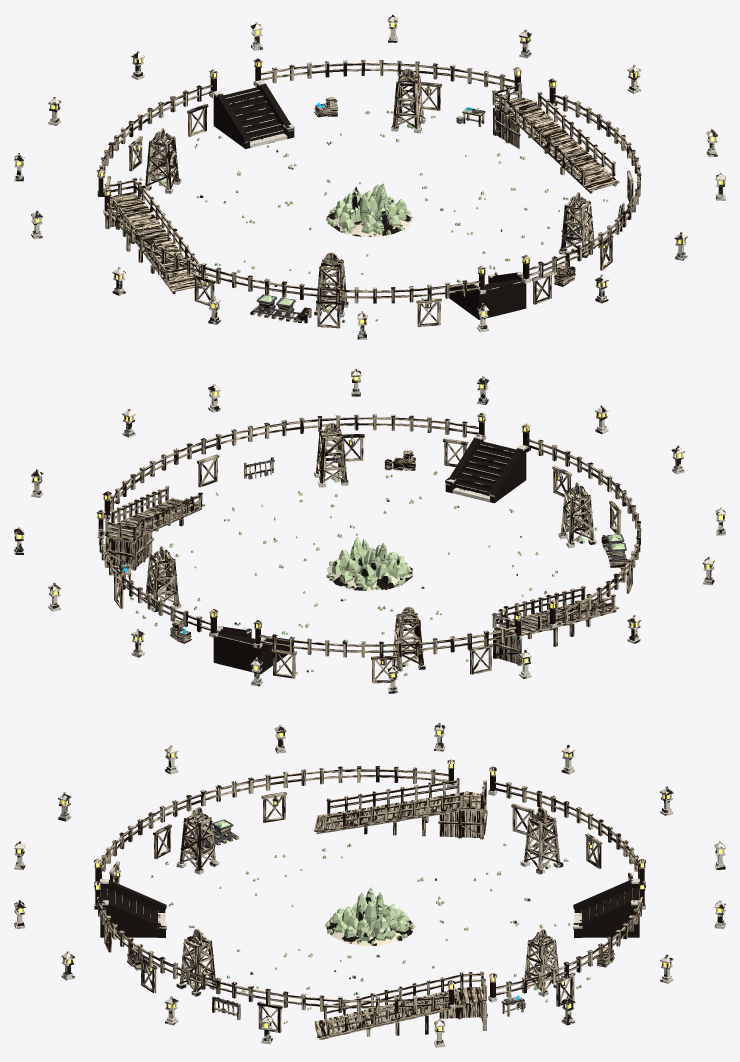
Rendered from ILHA1_03_MINING_1c2e64.fbx.
3 views of the same model, one above another, from view 1: azimuth 30°, elevation 25°; view 2: azimuth 150°, elevation 25°; view 3: azimuth 270°, elevation 25° (orthographic).
Parts seen in each view (by area): view 1: MINE_Pit_Ramps__Wood_Plank_B, MINE_Derricks__Wood_Dark_B, MINE_Pit_Fence__Wood_Dark, MINE_Props__Wood_Dark_C, MINE_Pit_Fence__Wood_Plank_B, MINE_Pit_Stairs__Stone_Wall_Light, MINE_Pit_Ramps__Wood_Dark, MINE_Ring_Toros__Stone_Wall_Dark, MINE_Pit_Fence__Wood_Dark_B, MINE_Ring_Toros__Stone_Wall_Light_C, MINE_Core_Formation__Cliff_Rock_Dark_B, MINE_Pit_Stairs__Stone_Wall_Dark (+9 smaller); view 2: MINE_Derricks__Wood_Dark_B, MINE_Pit_Fence__Wood_Dark, MINE_Props__Wood_Dark_C, MINE_Pit_Fence__Wood_Plank_B, MINE_Pit_Ramps__Wood_Plank_B, MINE_Pit_Stairs__Stone_Wall_Light, MINE_Pit_Ramps__Wood_Dark, MINE_Ring_Toros__Stone_Wall_Dark, MINE_Pit_Fence__Wood_Dark_B, MINE_Ring_Toros__Stone_Wall_Light_C, MINE_Core_Formation__Cliff_Rock_Dark_B, MINE_Pit_Ramps__Wood_Dark_B (+9 smaller); view 3: MINE_Pit_Ramps__Wood_Plank_B, MINE_Derricks__Wood_Dark_B, MINE_Pit_Fence__Wood_Dark, MINE_Pit_Fence__Wood_Plank_B, MINE_Props__Wood_Dark_C, MINE_Pit_Ramps__Wood_Dark, MINE_Pit_Stairs__Stone_Wall_Dark, MINE_Ring_Toros__Stone_Wall_Dark, MINE_Pit_Fence__Wood_Dark_B, MINE_Pit_Stairs__Stone_Wall_Light, MINE_Ring_Toros__Stone_Wall_Light_C, MINE_Core_Formation__Cliff_Rock_Dark_B (+10 smaller).
Boxes of the visible parts, bbox=[...] form: MINE_Pit_Ramps__Wood_Plank_B: bbox=[108, 85, 613, 291]; MINE_Derricks__Wood_Dark_B: bbox=[145, 74, 594, 313]; MINE_Pit_Fence__Wood_Dark: bbox=[96, 60, 640, 303]; MINE_Props__Wood_Dark_C: bbox=[106, 82, 633, 328]; MINE_Pit_Fence__Wood_Plank_B: bbox=[101, 63, 640, 298]; MINE_Pit_Stairs__Stone_Wall_Light: bbox=[212, 87, 523, 318]; MINE_Pit_Ramps__Wood_Dark: bbox=[104, 86, 615, 289]; MINE_Ring_Toros__Stone_Wall_Dark: bbox=[14, 16, 725, 339]; MINE_Pit_Fence__Wood_Dark_B: bbox=[99, 58, 641, 303]; MINE_Ring_Toros__Stone_Wall_Light_C: bbox=[15, 14, 724, 336]; MINE_Core_Formation__Cliff_Rock_Dark_B: bbox=[326, 183, 409, 235]; MINE_Pit_Stairs__Stone_Wall_Dark: bbox=[213, 84, 526, 319]; MINE_Derricks__Wood_Dark_B: bbox=[145, 428, 594, 667]; MINE_Pit_Fence__Wood_Dark: bbox=[96, 412, 640, 657]; MINE_Props__Wood_Dark_C: bbox=[113, 434, 632, 683]; MINE_Pit_Fence__Wood_Plank_B: bbox=[100, 417, 640, 652]; MINE_Pit_Ramps__Wood_Plank_B: bbox=[107, 488, 619, 663]; MINE_Pit_Stairs__Stone_Wall_Light: bbox=[218, 434, 515, 672]; MINE_Pit_Ramps__Wood_Dark: bbox=[105, 488, 615, 665]; MINE_Ring_Toros__Stone_Wall_Dark: bbox=[14, 370, 725, 693]; MINE_Pit_Fence__Wood_Dark_B: bbox=[97, 414, 641, 652]; MINE_Ring_Toros__Stone_Wall_Light_C: bbox=[15, 368, 724, 690]; MINE_Core_Formation__Cliff_Rock_Dark_B: bbox=[329, 537, 412, 590]; MINE_Pit_Ramps__Wood_Dark_B: bbox=[104, 485, 616, 658]; MINE_Pit_Ramps__Wood_Plank_B: bbox=[314, 783, 486, 1035]; MINE_Derricks__Wood_Dark_B: bbox=[179, 810, 560, 992]; MINE_Pit_Fence__Wood_Dark: bbox=[94, 764, 645, 1013]; MINE_Pit_Fence__Wood_Plank_B: bbox=[97, 769, 642, 1008]; MINE_Props__Wood_Dark_C: bbox=[104, 792, 633, 1032]; MINE_Pit_Ramps__Wood_Dark: bbox=[316, 780, 487, 1036]; MINE_Pit_Stairs__Stone_Wall_Dark: bbox=[100, 884, 639, 937]; MINE_Ring_Toros__Stone_Wall_Dark: bbox=[14, 724, 725, 1047]; MINE_Pit_Fence__Wood_Dark_B: bbox=[95, 759, 645, 1012]; MINE_Pit_Stairs__Stone_Wall_Light: bbox=[100, 879, 639, 929]; MINE_Ring_Toros__Stone_Wall_Light_C: bbox=[15, 722, 724, 1044]; MINE_Core_Formation__Cliff_Rock_Dark_B: bbox=[325, 892, 414, 943].
Bounding box in the file's own units: 159 × 15.3 × 159.
8 materials, 4 textured.
